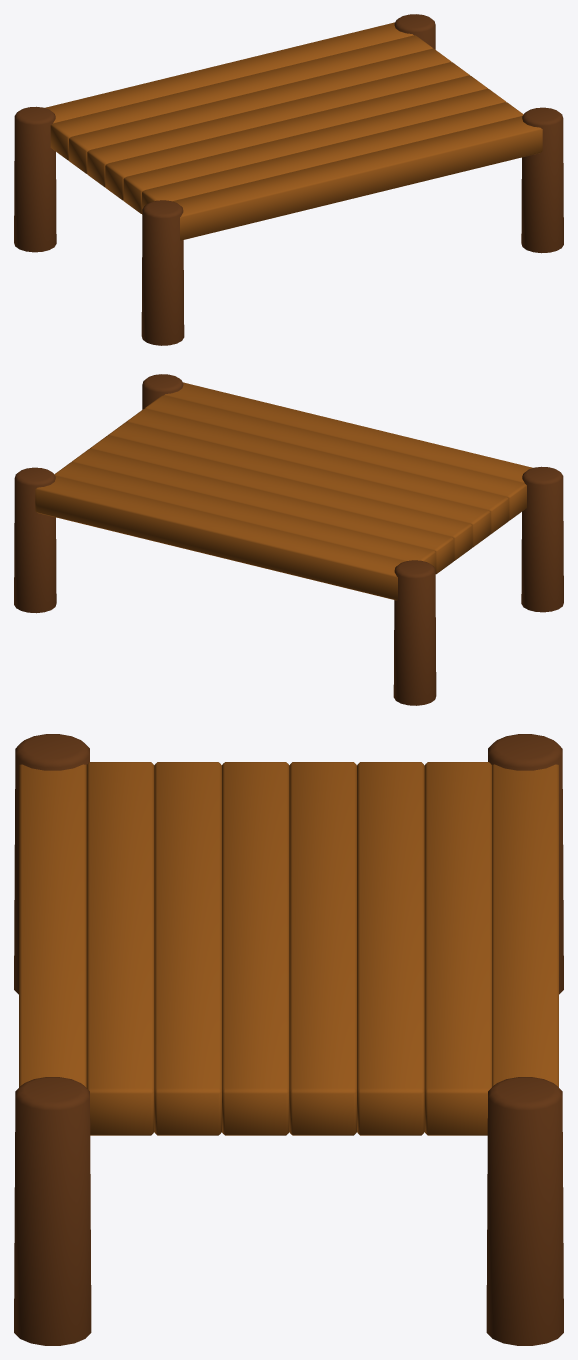
File: dock.fbx
3 views of the same model, one above another, from view 1: azimuth 30°, elevation 25°; view 2: azimuth 150°, elevation 25°; view 3: azimuth 270°, elevation 25° (orthographic). The views are drawn at different scales.
Visible parts, largest first — view 1: dock; view 2: dock; view 3: dock.
Boxes of the visible parts, box(x1,y1,x2,y2) form: dock: box(14, 14, 563, 345); dock: box(14, 374, 563, 705); dock: box(14, 734, 563, 1345).
Size of the model in its own units: 594 by 177 by 367.
